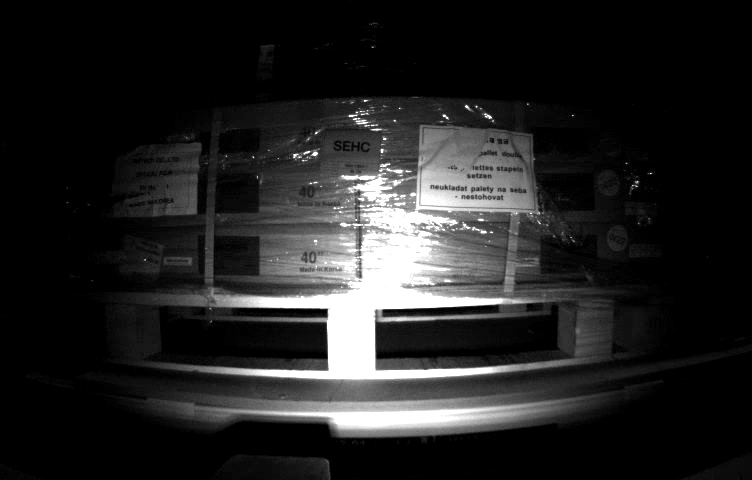True Barcode: (120, 230, 161, 282)
